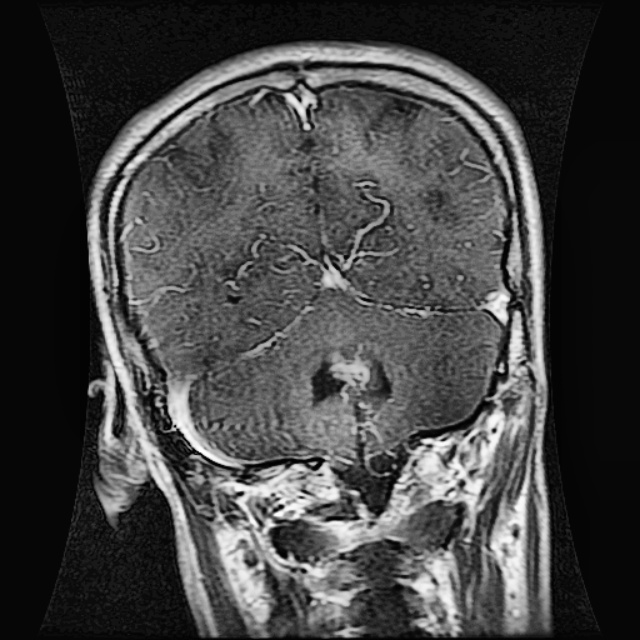Meningioma: (304, 344, 392, 419)
